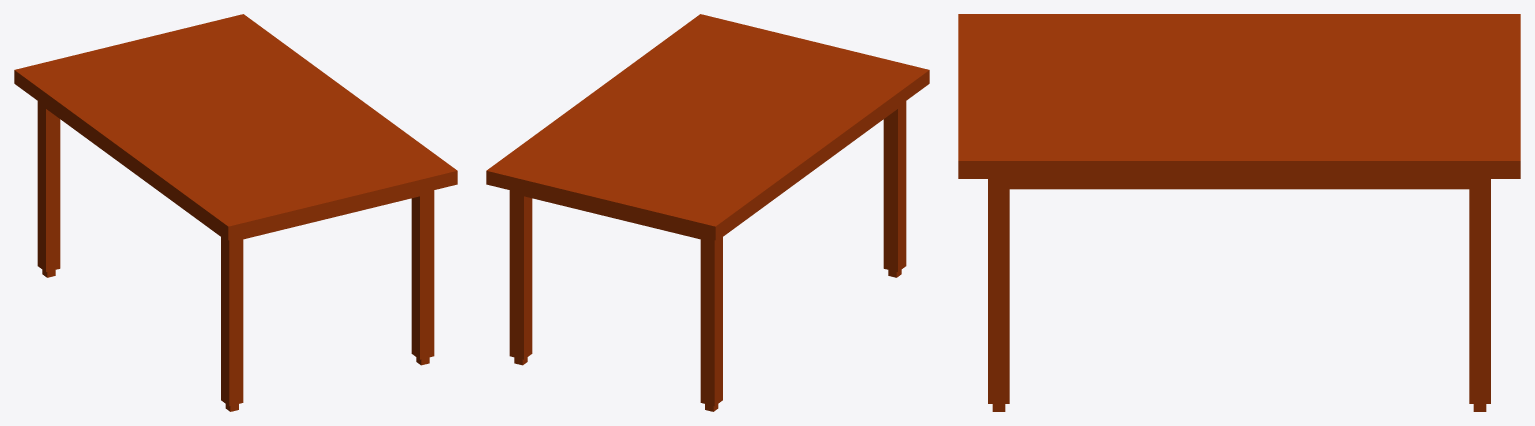
Rendered from Table.fbx.
3 views of the same model, side by side, from view 1: azimuth 30°, elevation 25°; view 2: azimuth 150°, elevation 25°; view 3: azimuth 270°, elevation 25° (orthographic). The views are drawn at different scales.
Parts seen in each view (by area): view 1: Cube.005_Cube.007; view 2: Cube.005_Cube.007; view 3: Cube.005_Cube.007.
Boxes of the visible parts, x1=… form: Cube.005_Cube.007: x1=14, y1=14, x2=457, y2=411; Cube.005_Cube.007: x1=486, y1=14, x2=929, y2=411; Cube.005_Cube.007: x1=958, y1=14, x2=1520, y2=411.
Size of the model in its own units: 222 by 184 by 360.
